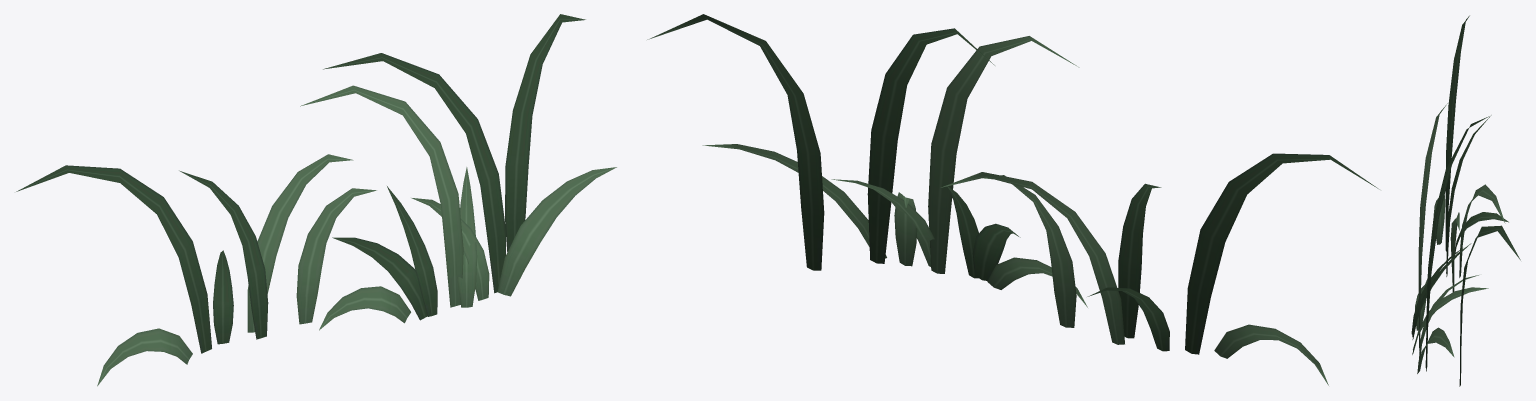
Rendered from grass_tuft.glb.
3 renders of one model, left to right at view 1: azimuth 30°, elevation 25°; view 2: azimuth 150°, elevation 25°; view 3: azimuth 270°, elevation 25°, orthographic. The views are drawn at different scales.
Parts seen in each view (by area): view 1: grass_tuft_lod0; view 2: grass_tuft_lod0; view 3: grass_tuft_lod0.
Part boxes in pixels (bbox=[...]): grass_tuft_lod0: bbox=[16, 14, 616, 386]; grass_tuft_lod0: bbox=[647, 14, 1379, 385]; grass_tuft_lod0: bbox=[1411, 15, 1520, 386].
Size of the model in its own units: 0.8764 by 0.3435 by 0.1621.
1 material, 1 textured.
